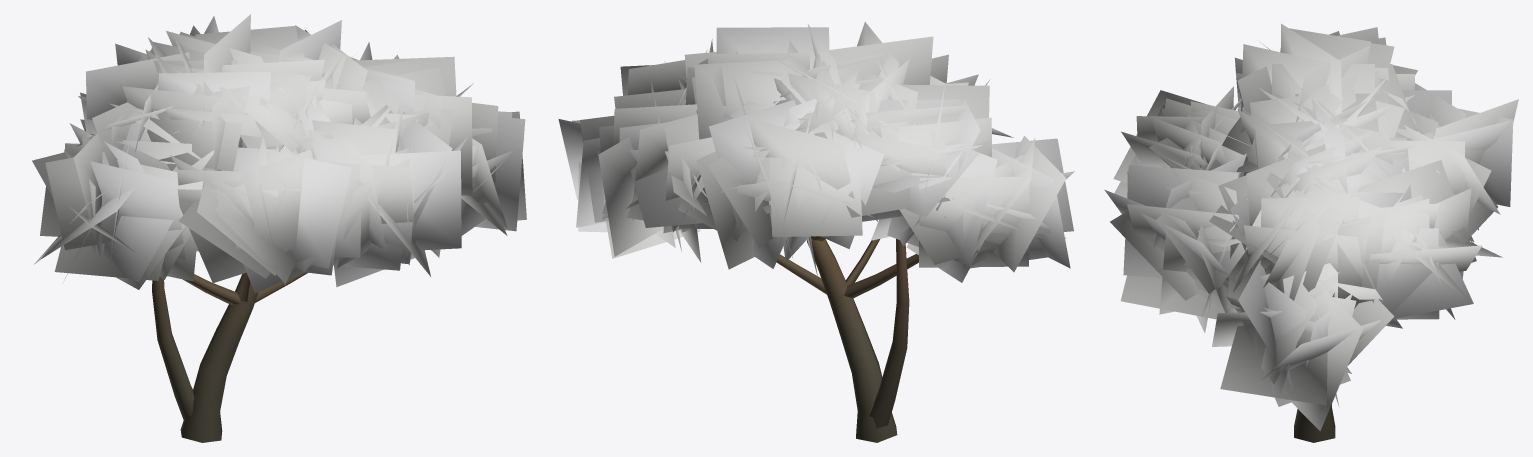
The picture shows the model from 3 angles, left to right: view 1: azimuth 30°, elevation 25°; view 2: azimuth 150°, elevation 25°; view 3: azimuth 270°, elevation 25°; orthographic projection.
Visible parts, largest first — view 1: crown, trunk; view 2: crown, trunk; view 3: crown, trunk.
Boxes of the visible parts, x1,y1,x2,y2 form: crown: [32, 14, 526, 293]; trunk: [152, 272, 307, 442]; crown: [558, 22, 1074, 282]; trunk: [776, 236, 918, 442]; crown: [1104, 23, 1518, 430]; trunk: [1294, 404, 1335, 442].
Size of the model in its own units: 14.26 by 10.59 by 9.89.
